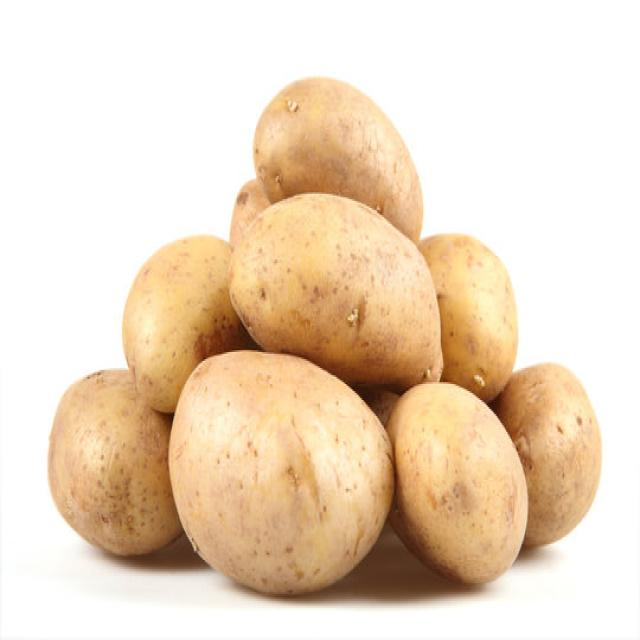Garlic: (229, 178, 270, 249)
Potato: (167, 347, 395, 596), (228, 190, 443, 391), (385, 379, 529, 585), (251, 75, 423, 245), (46, 366, 184, 556), (121, 233, 254, 412), (492, 359, 602, 548), (417, 231, 518, 402)
